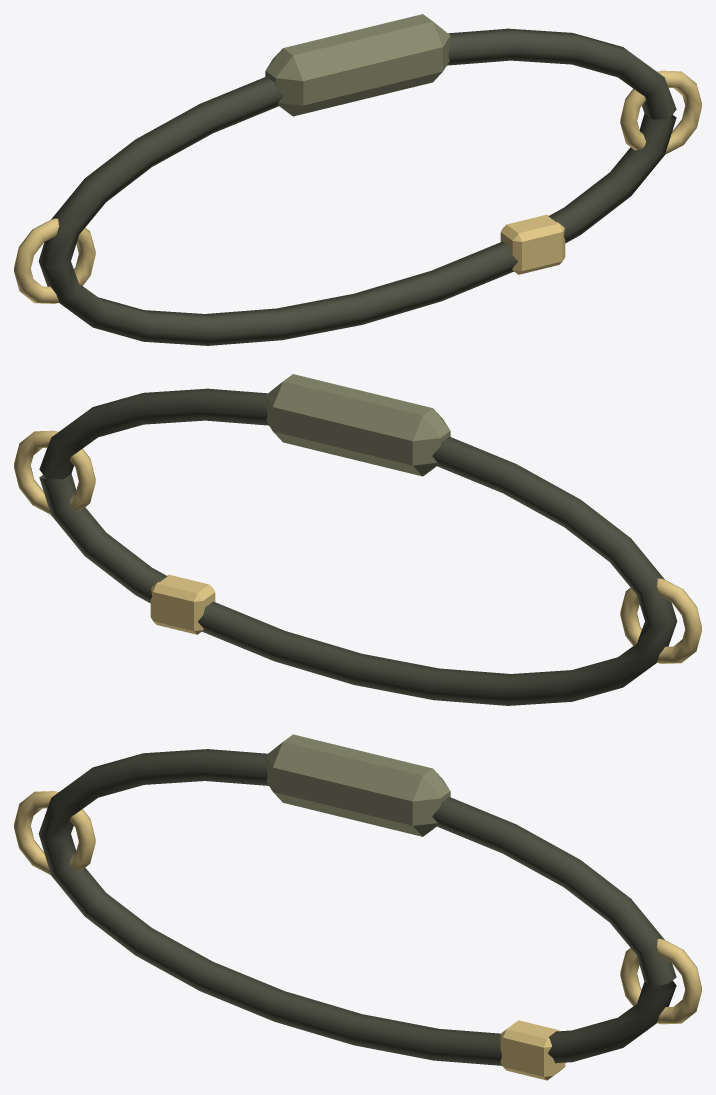
Rendered from item_sling.glb.
3 renders of one model, top to bottom at view 1: azimuth 30°, elevation 25°; view 2: azimuth 150°, elevation 25°; view 3: azimuth 330°, elevation 25°, orthographic.
Visible parts, largest first — view 1: sling; view 2: sling; view 3: sling.
Part boxes in pixels (left/top/right/bottom): sling: left=14, top=14, right=701, bottom=345; sling: left=14, top=374, right=701, bottom=705; sling: left=14, top=734, right=701, bottom=1080.
Size of the model in its own units: 0.59 by 0.2354 by 0.045.
